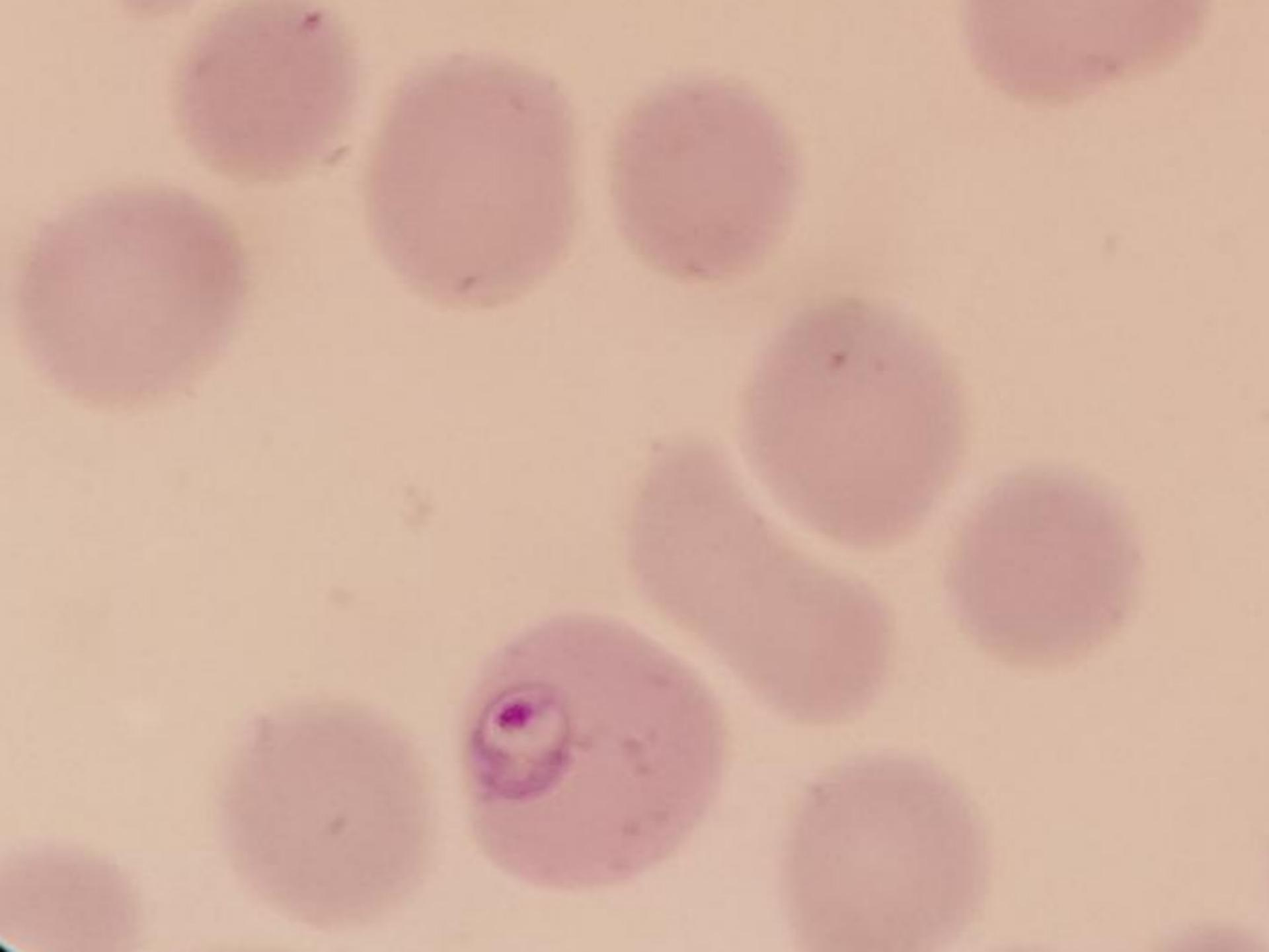Infected: (459, 623, 727, 888)
Uninfected: (623, 435, 896, 722), (740, 294, 964, 545), (370, 55, 576, 308), (26, 180, 250, 405), (228, 704, 432, 912), (785, 758, 987, 952), (608, 73, 793, 282), (956, 471, 1133, 661), (178, 0, 356, 178)
